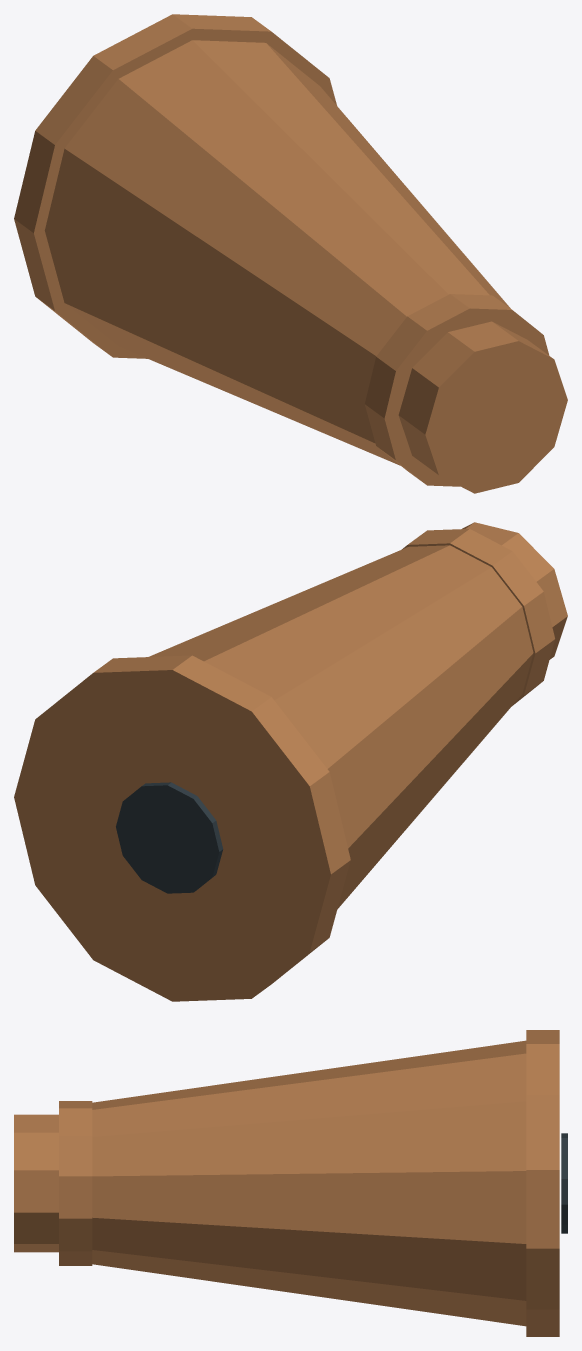
File: AEW_Suppressor_QuietBell.fbx
The picture shows the model from 3 angles, top to bottom: view 1: azimuth 30°, elevation 25°; view 2: azimuth 150°, elevation 25°; view 3: azimuth 270°, elevation 25°; orthographic projection. The views are drawn at different scales.
Visible parts, largest first — view 1: AEW_Suppressor_QuietBell; view 2: AEW_Suppressor_QuietBell; view 3: AEW_Suppressor_QuietBell.
Boxes of the visible parts, bbox=[...] form: AEW_Suppressor_QuietBell: bbox=[14, 14, 567, 493]; AEW_Suppressor_QuietBell: bbox=[14, 522, 567, 1001]; AEW_Suppressor_QuietBell: bbox=[14, 1030, 567, 1336].
Bounding box in the file's own units: 0.1847 × 0.1847 × 0.332.
